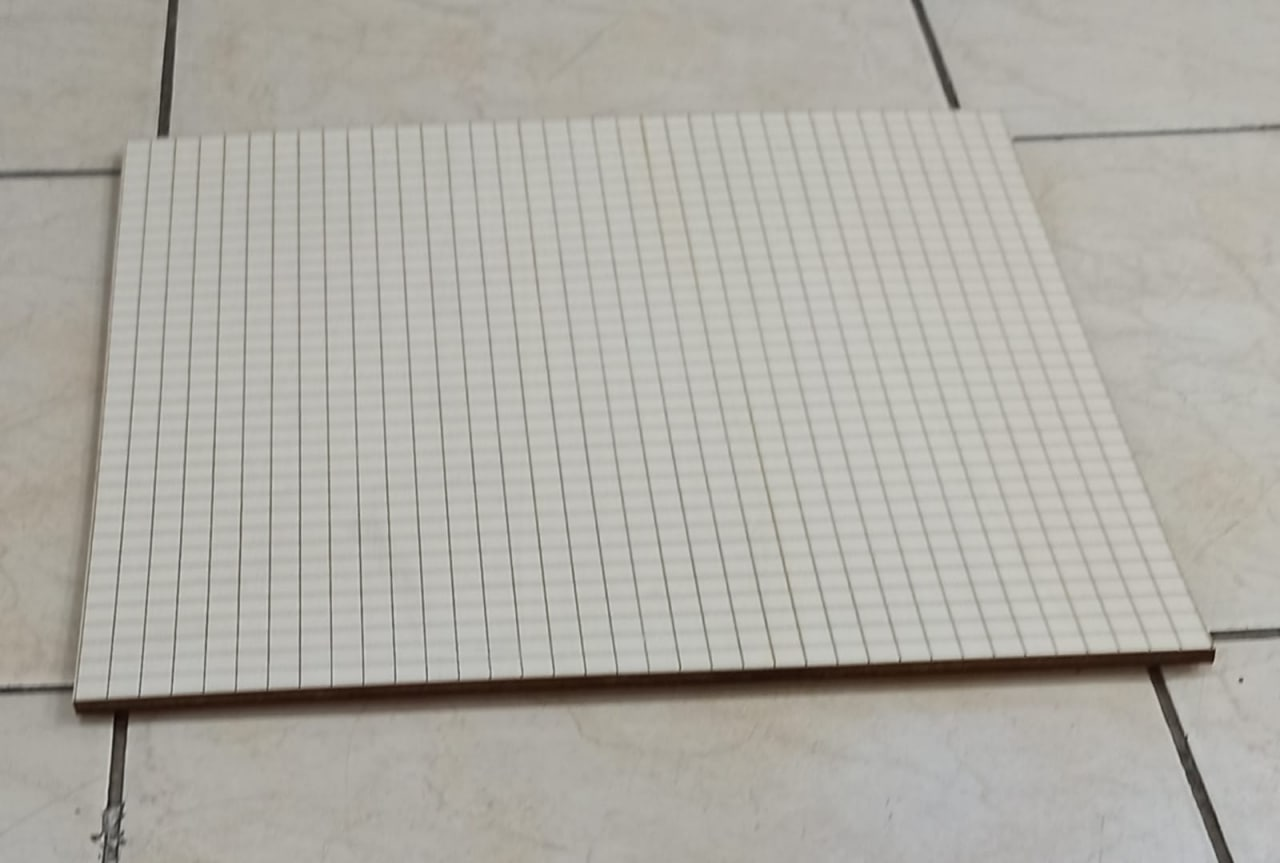grid: (67, 96, 1226, 703)
